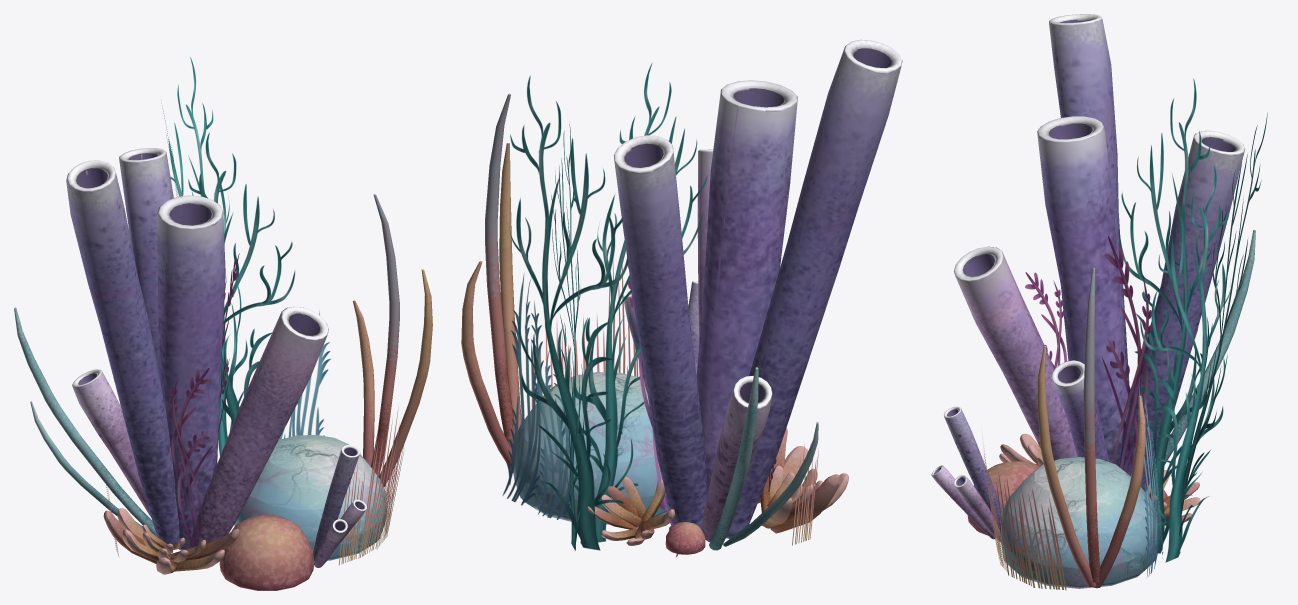
The model's file is coral_piece.glb.
The picture shows the model from 3 angles, left to right: view 1: azimuth 30°, elevation 25°; view 2: azimuth 150°, elevation 25°; view 3: azimuth 270°, elevation 25°; orthographic projection. The views are drawn at different scales.
Parts seen in each view (by area): view 1: polySurface267_lambert3_0, polySurface223_planes_0; view 2: polySurface267_lambert3_0, polySurface223_planes_0; view 3: polySurface267_lambert3_0, polySurface223_planes_0.
Part boxes in pixels (left/top/right/bottom): polySurface267_lambert3_0: left=14, top=148, right=432, bottom=590; polySurface223_planes_0: left=105, top=57, right=405, bottom=565; polySurface267_lambert3_0: left=461, top=39, right=902, bottom=554; polySurface223_planes_0: left=502, top=63, right=818, bottom=556; polySurface267_lambert3_0: left=931, top=14, right=1255, bottom=588; polySurface223_planes_0: left=983, top=78, right=1267, bottom=590.
Bounding box in the file's own units: 3.09 × 4.06 × 2.64.
2 materials, 2 textured.
